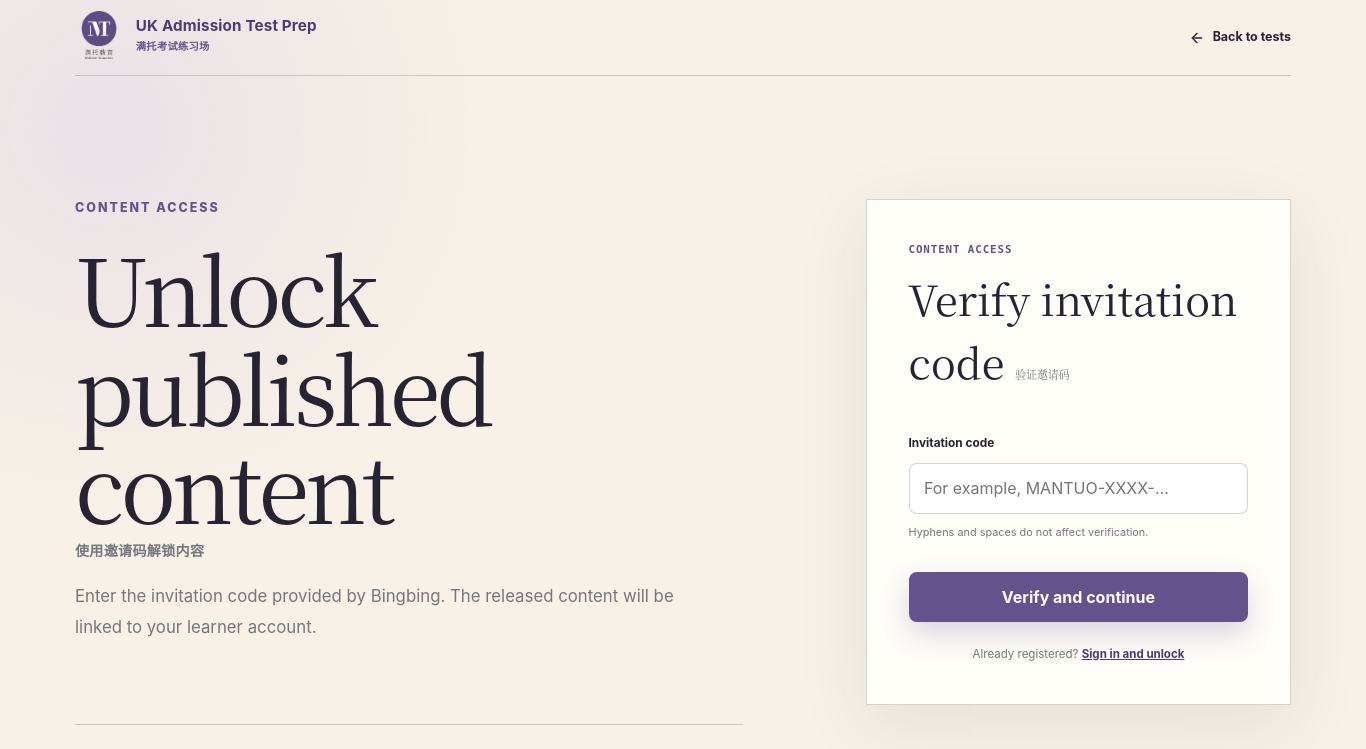
invite-first account access flow › validates an invite before exposing registration
Type "MANTUO-TMUA-LOCAL-2026-ACCESS" into the field labelled "Invitation code" at point(1078, 488), box [908, 463, 1248, 514]
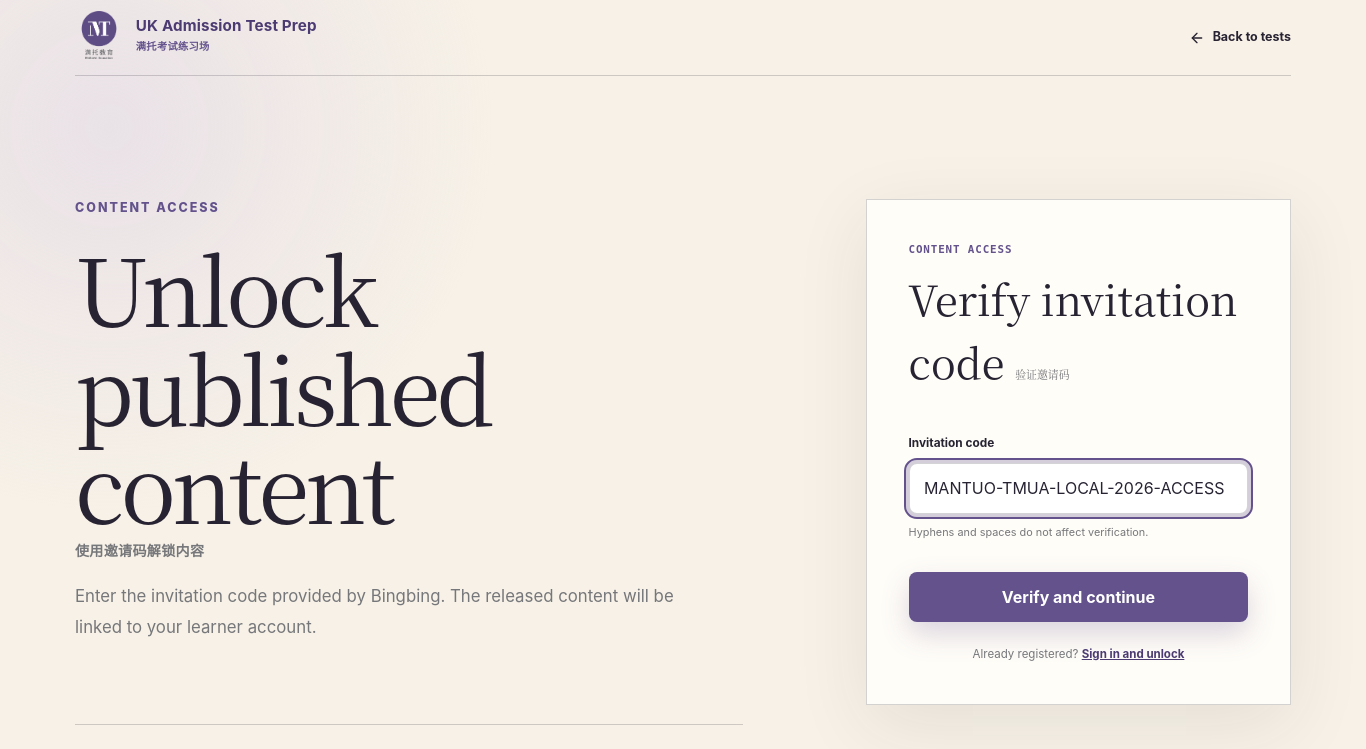
Click the button "Verify and continue" at point(1078, 597), box [908, 572, 1248, 622]
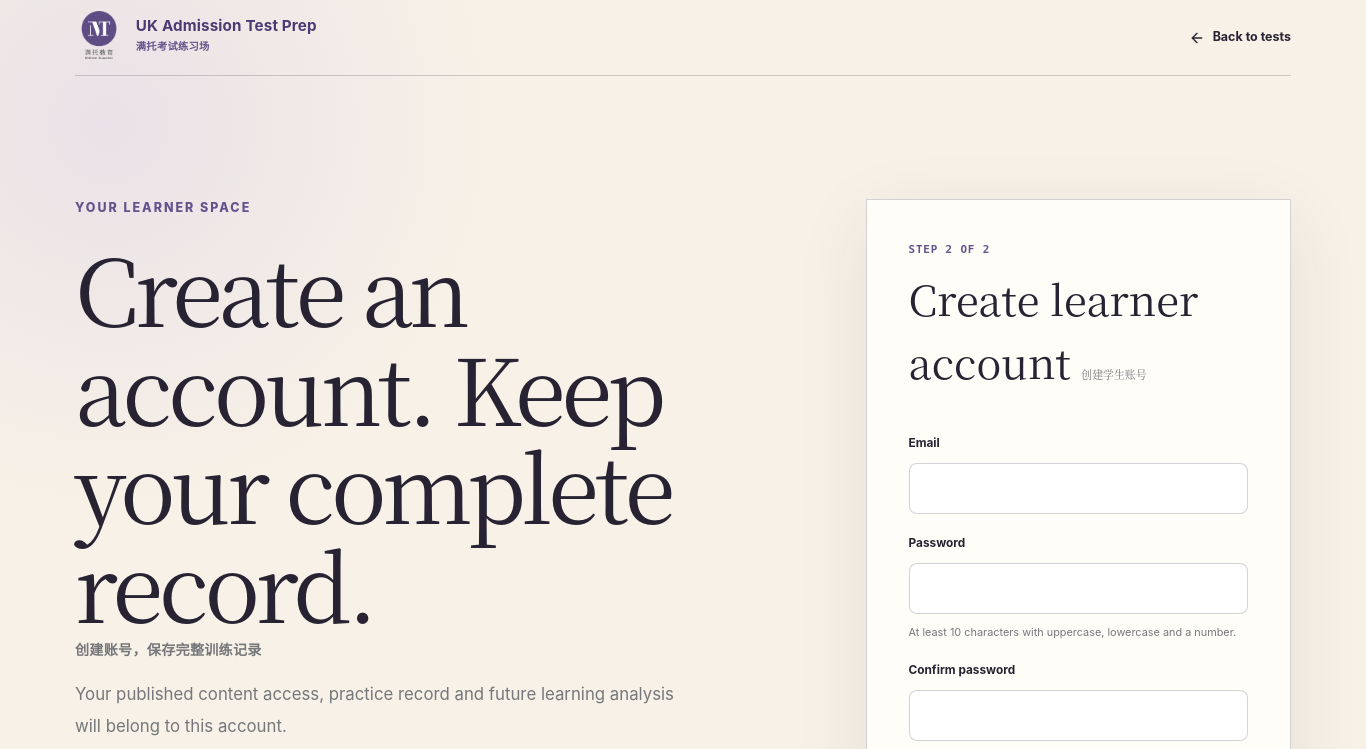
Expected: the heading "Create an account. Keep your complete record. 创建账号，保存完整训练记录" is shown, [75, 238, 743, 660]
